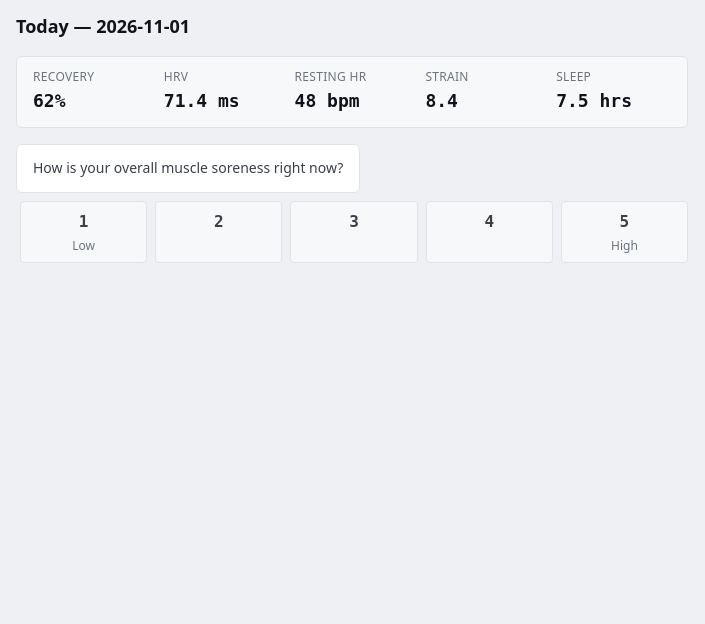
Scenario: MorningView › joint-pain override: renders the override reasons and MODIFY verdict
The width and height of the screenshot is (705, 624).
Click the button "3".
click(354, 232)  # box [290,201,418,263]
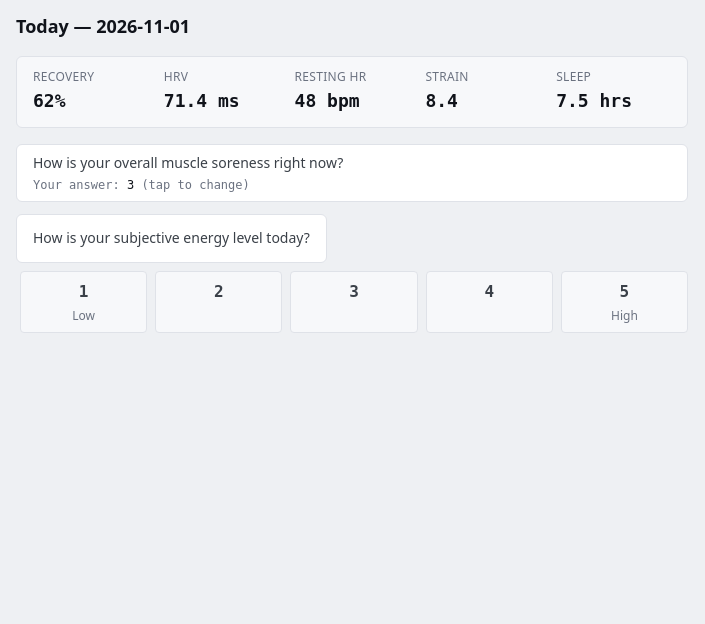
Click the button "3".
click(354, 302)  # box [290,271,418,333]
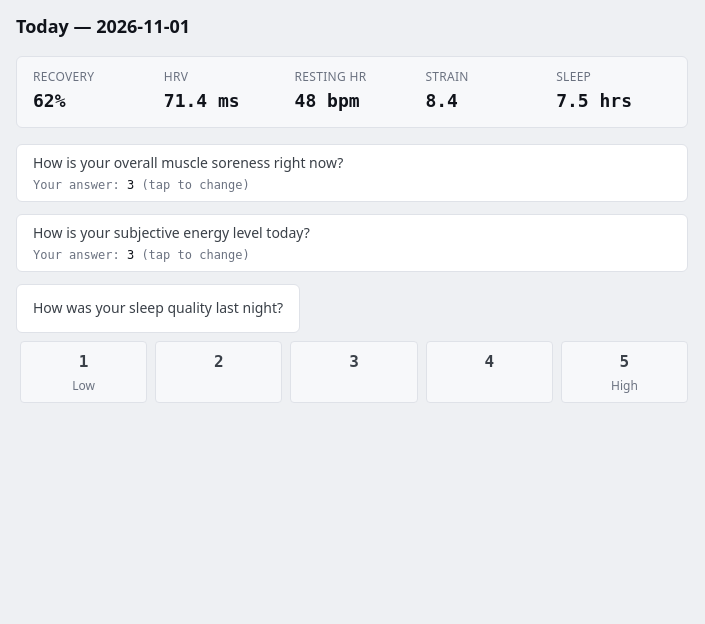
Click the button "3".
click(354, 372)  # box [290,341,418,403]
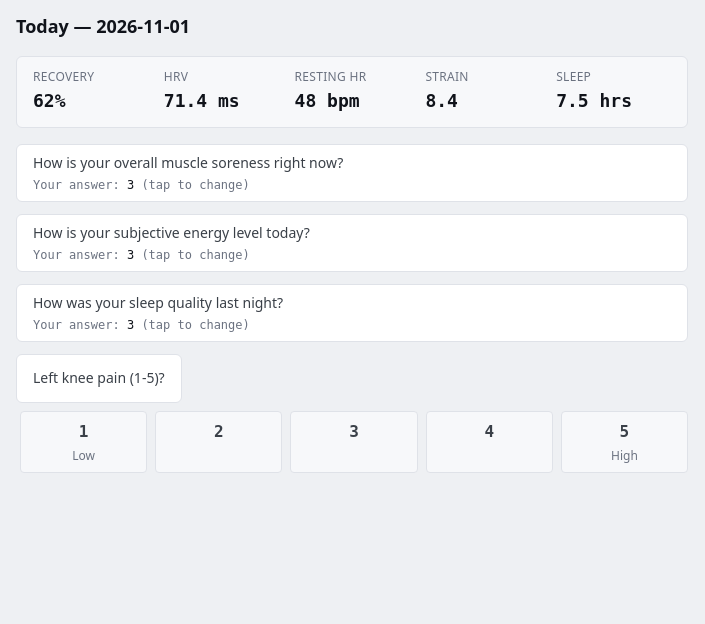
Click the button "3".
click(354, 442)  # box [290,411,418,473]
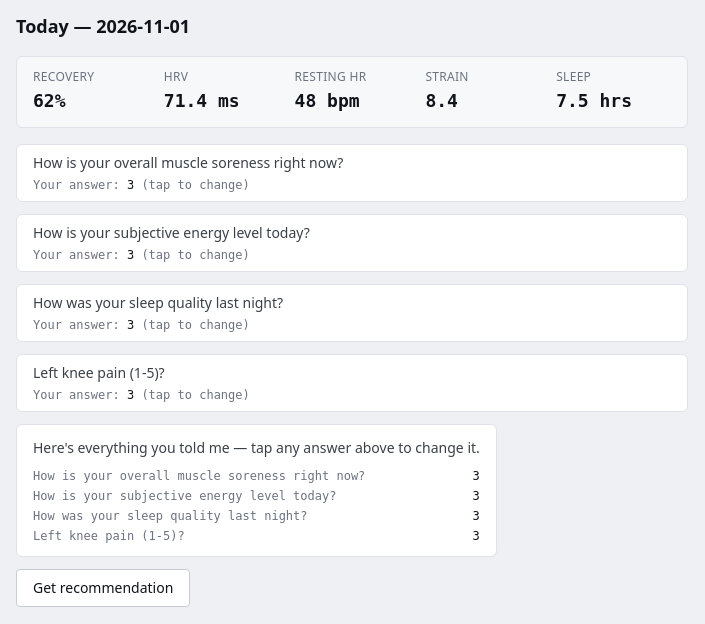
Click the button with test id "confirm-decision".
click(103, 588)  # box [16,569,190,607]
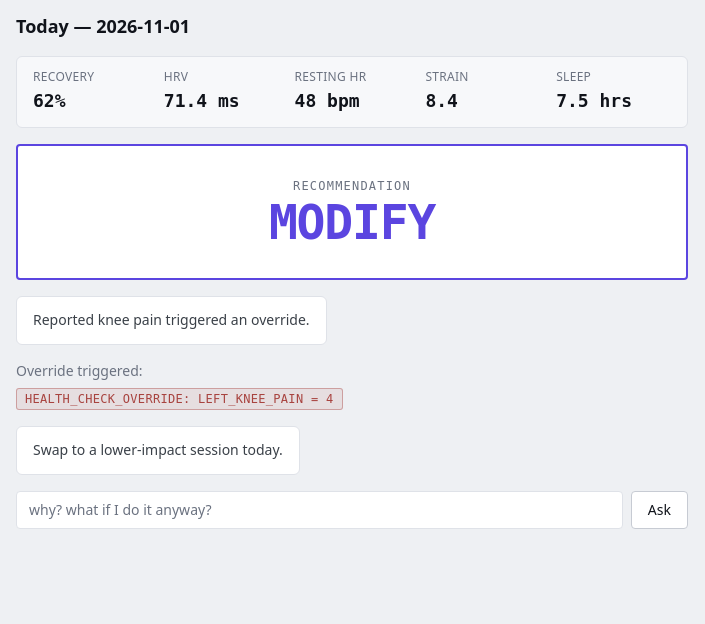
Expected: the element with test id "verdict-stamp" shows "MODIFY", [269,194,435,250]
Expected: the element with test id "morning-override" shows "health_check_override: left_knee_pain = 4", [25,392,334,406]
